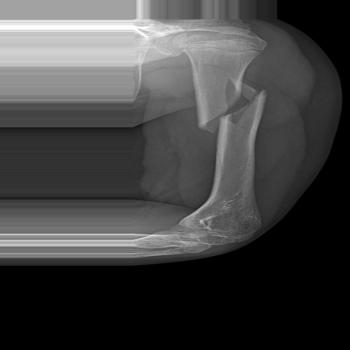Fracture: (193, 76, 271, 132)
